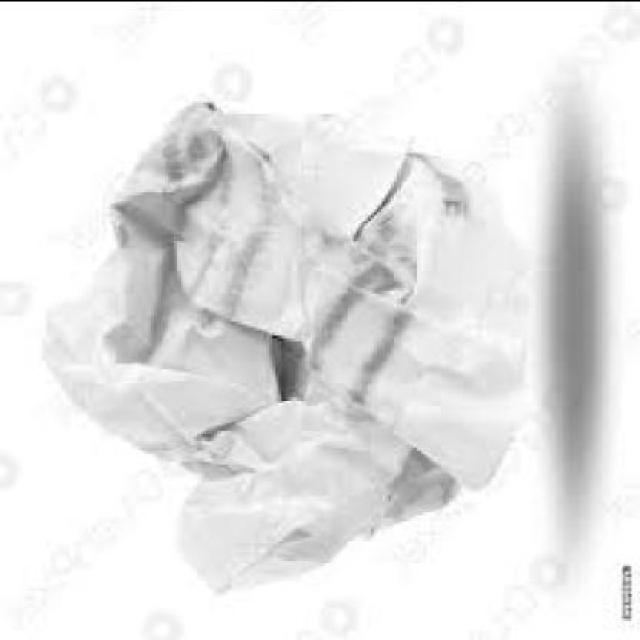PAPER: (38, 96, 520, 590)
